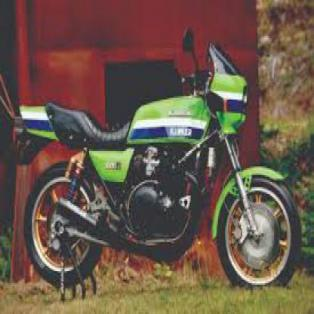Motocicleta: (7, 21, 299, 291)
